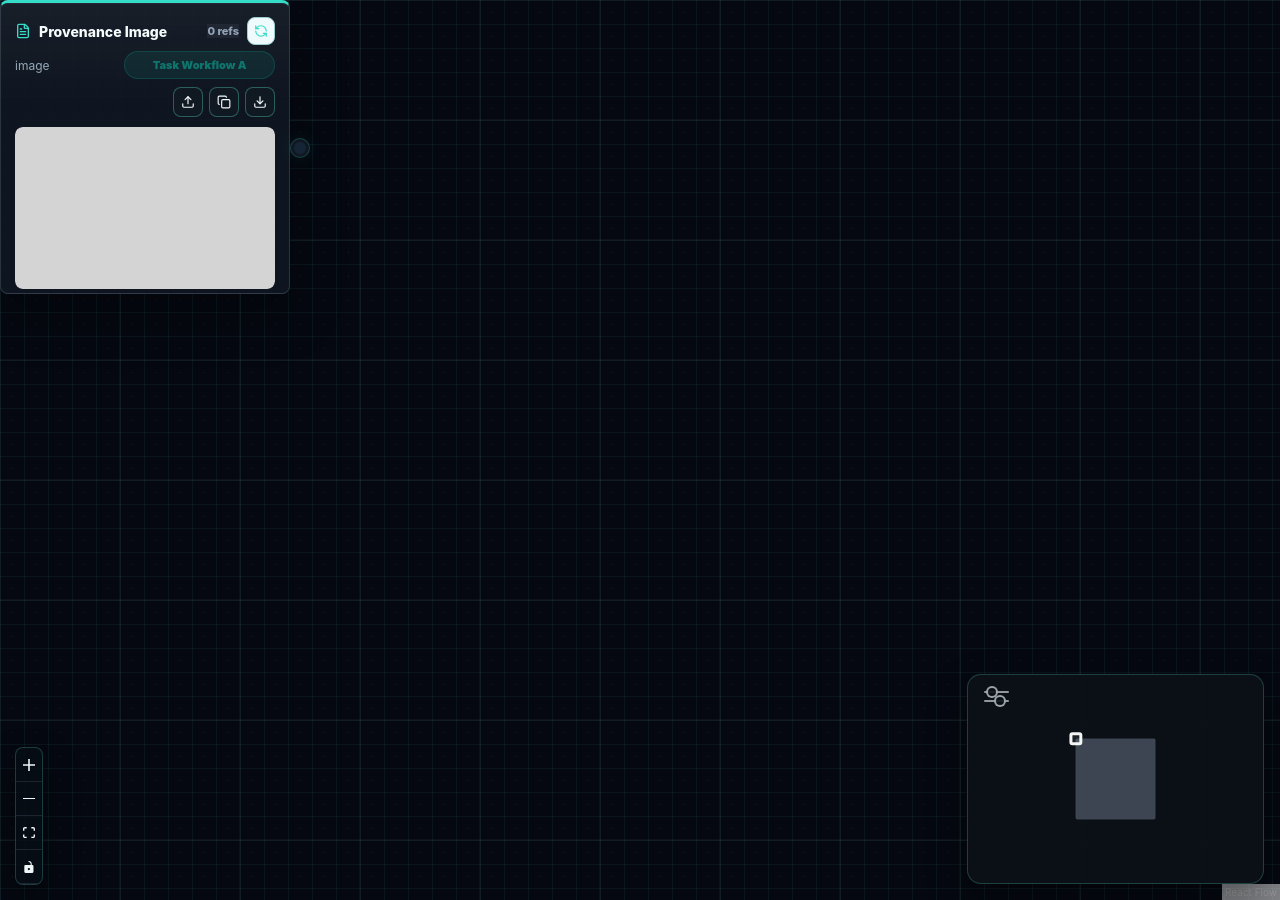
Test: CanvasWorkspace › uses task provenance consistently for the source button and function details when metadata disagrees
Expected: the element with class "react-flow__node" is shown, [0, 0, 290, 294]
Click the button with class "asset-function-chip": (200, 65) [124, 51, 275, 79]
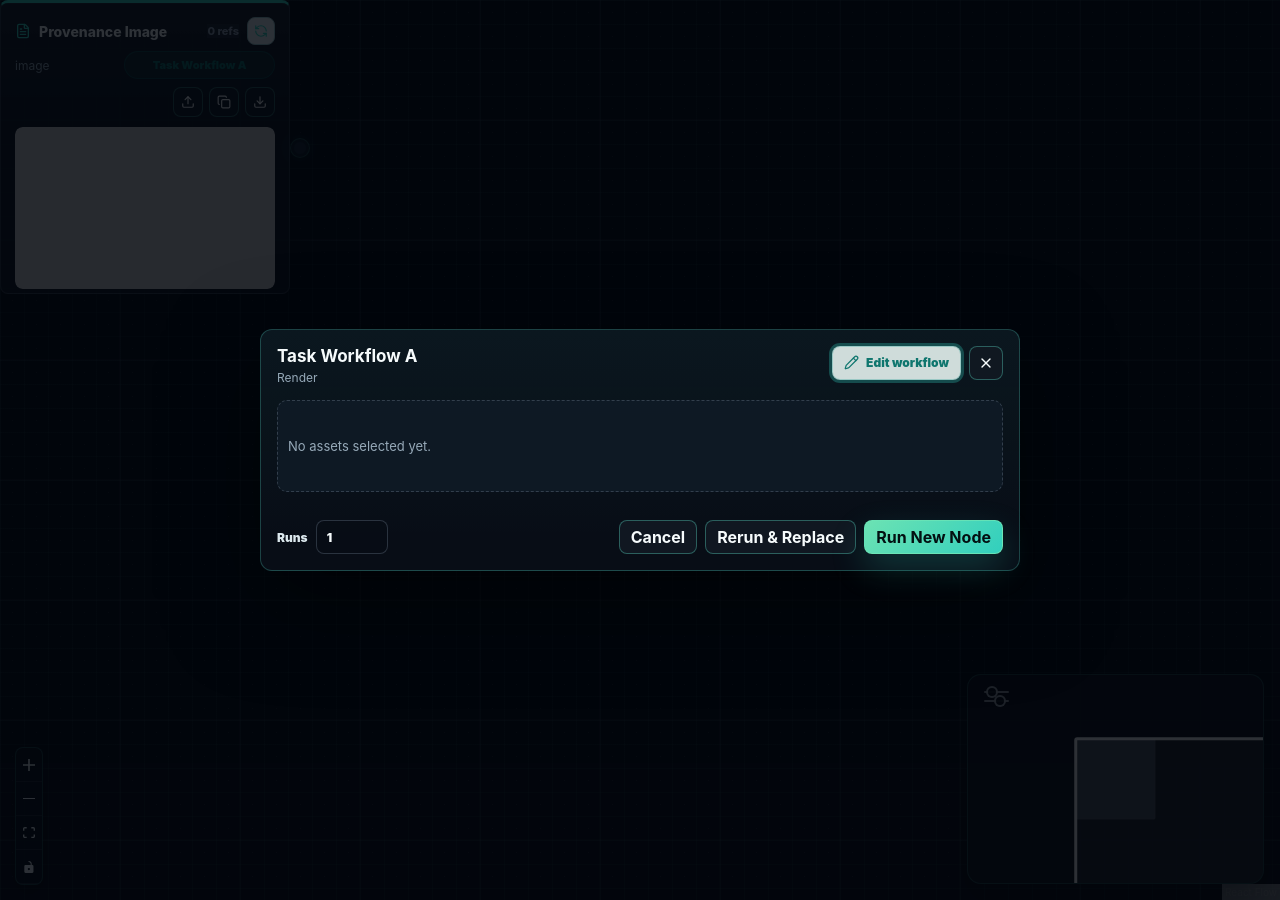
Now the heading "Task Workflow A" is shown, box [277, 346, 417, 366]
Now the button with aria-label "Edit workflow in ComfyUI" is enabled, box [832, 346, 961, 380]
Now the button with aria-label "Run and replace current output" is enabled, box [705, 520, 856, 554]
